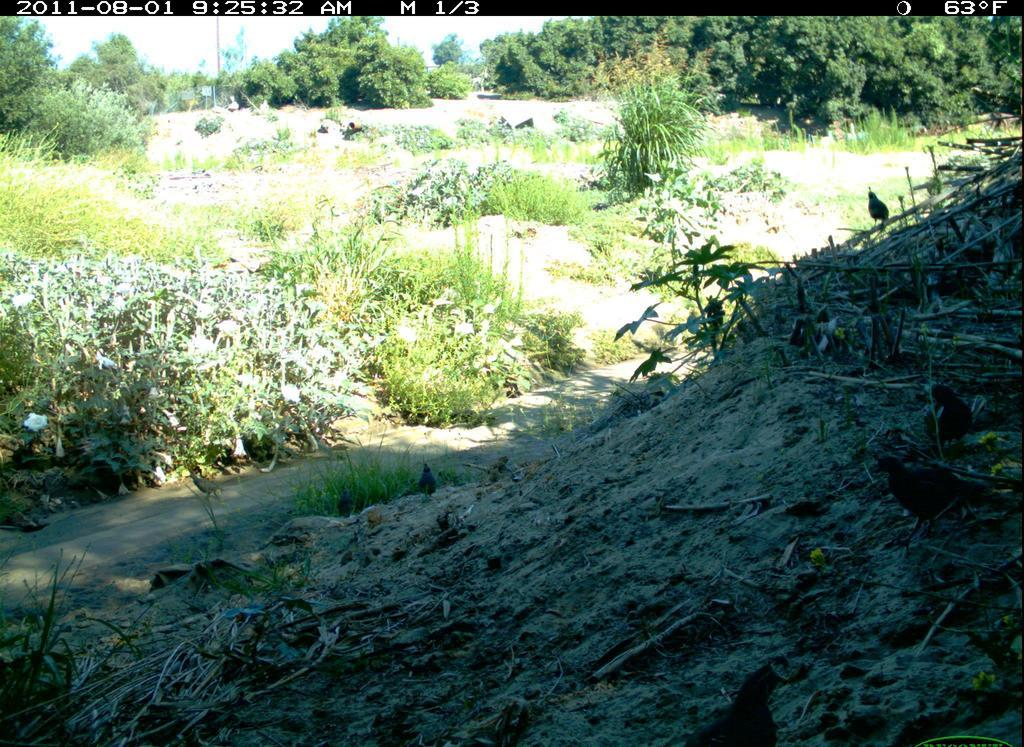bird: (865, 443, 1022, 546), (681, 657, 798, 747), (915, 379, 980, 459), (184, 468, 229, 507), (862, 182, 895, 235), (412, 459, 447, 507), (332, 480, 358, 523)
